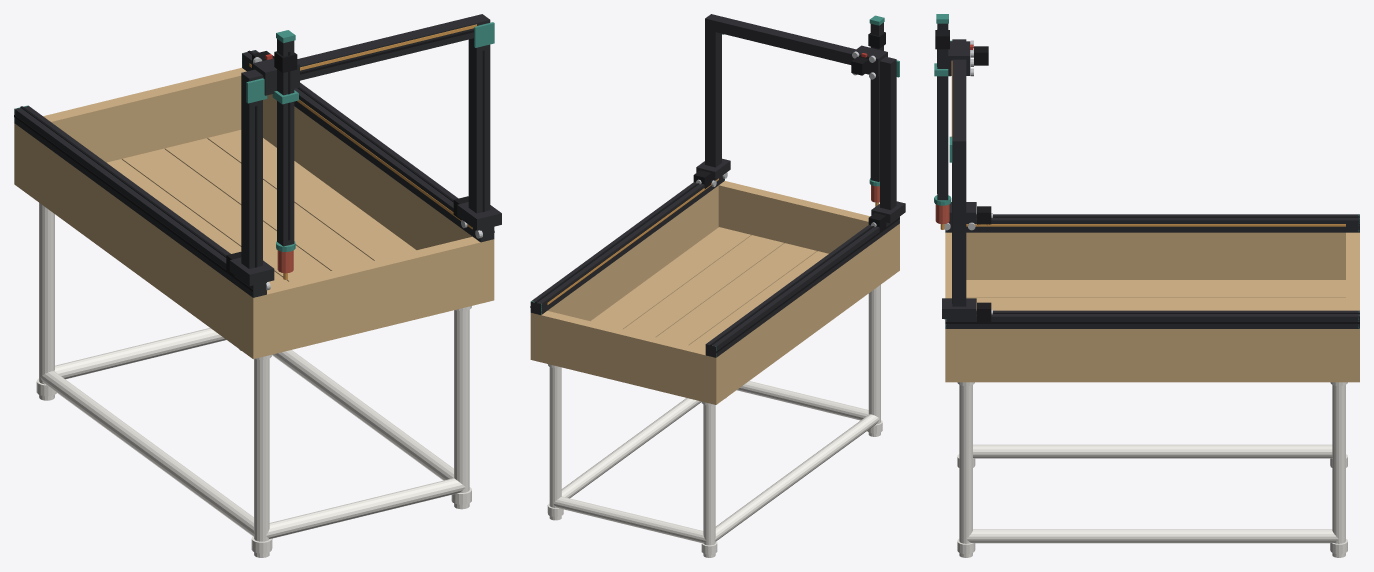
Rendered from farmbot_model.glb.
The picture shows the model from 3 angles, left to right: view 1: azimuth 30°, elevation 25°; view 2: azimuth 150°, elevation 25°; view 3: azimuth 270°, elevation 25°; orthographic projection. The views are drawn at different scales.
Parts seen in each view (by area): view 1: Bed_Top, Frame_Legs, Gantry, Rail_Left, Rail_Right, Z_Extension, X_Carriage; view 2: Bed_Top, Frame_Legs, Gantry, Rail_Left, Rail_Right, Z_Extension, X_Carriage; view 3: Bed_Top, Frame_Legs, Rail_Right, Rail_Left, Gantry, Z_Extension, X_Carriage.
Boxes of the visible parts, x1,y1,x2,y2 form: Bed_Top: (14, 67, 494, 359); Frame_Legs: (36, 203, 471, 557); Gantry: (226, 14, 501, 290); Rail_Left: (14, 105, 266, 297); Rail_Right: (242, 50, 494, 242); Z_Extension: (276, 30, 295, 279); X_Carriage: (252, 51, 299, 104); Bed_Top: (530, 181, 899, 404); Frame_Legs: (547, 285, 882, 557); Gantry: (693, 14, 905, 231); Rail_Left: (705, 216, 899, 357); Rail_Right: (530, 176, 724, 314); Z_Extension: (869, 15, 884, 206); X_Carriage: (851, 32, 887, 79); Bed_Top: (945, 232, 1359, 382); Frame_Legs: (957, 382, 1347, 557); Rail_Right: (945, 310, 1359, 328); Rail_Left: (945, 214, 1359, 232); Gantry: (942, 39, 992, 321); Z_Extension: (934, 14, 951, 229); X_Carriage: (934, 30, 988, 76).
Bounding box in the file's own units: 0.732 × 1.46 × 1.23.
